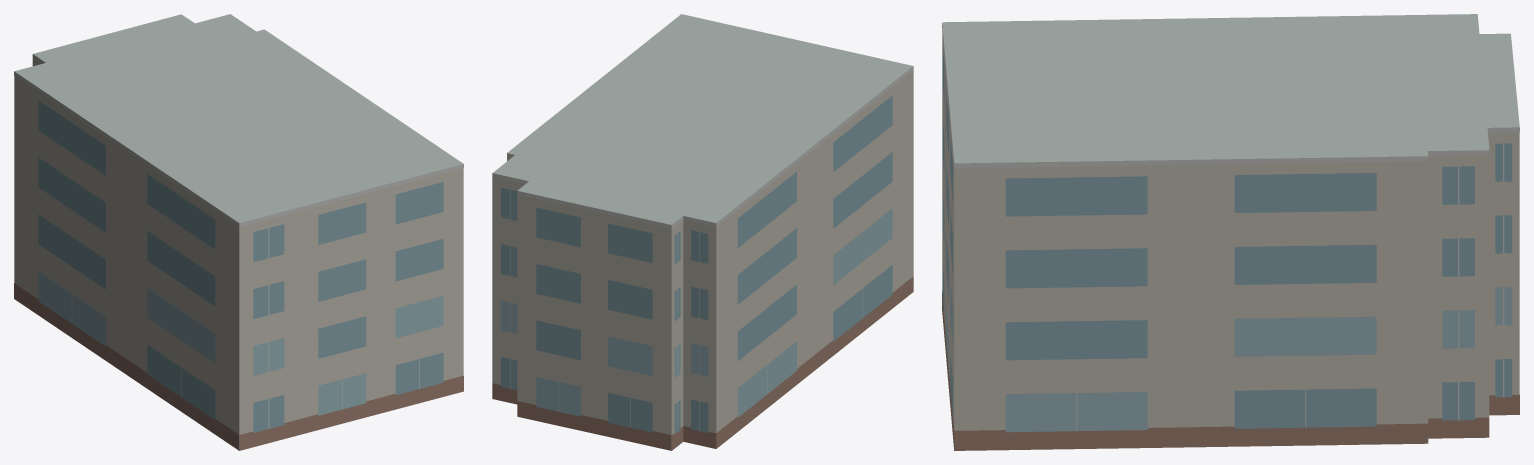
The model's file is survey-upis-32861949.glb.
3 renders of one model, left to right at view 1: azimuth 30°, elevation 25°; view 2: azimuth 150°, elevation 25°; view 3: azimuth 270°, elevation 25°, orthographic. The views are drawn at different scales.
Visible parts, largest first — view 1: survey-upis-32861949.tmp; view 2: survey-upis-32861949.tmp; view 3: survey-upis-32861949.tmp.
Part boxes in pixels (box(x1,y1,x2,y2)): survey-upis-32861949.tmp: box(14, 14, 463, 450); survey-upis-32861949.tmp: box(492, 14, 913, 450); survey-upis-32861949.tmp: box(942, 14, 1519, 450).
Size of the model in its own units: 15.5 by 13.9 by 25.32.
